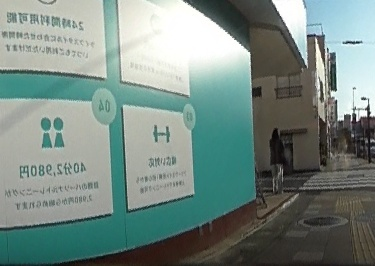person: (268, 125, 284, 192)
